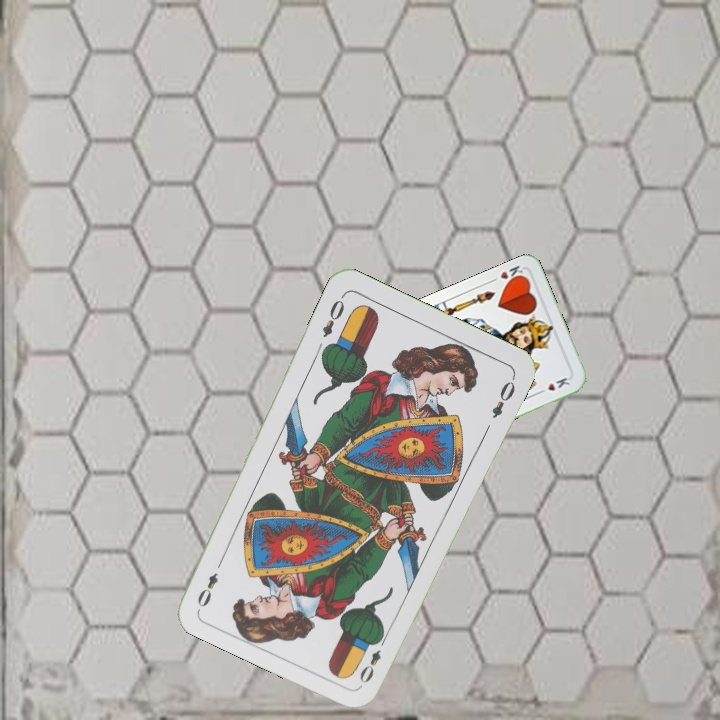EO: (355, 631, 390, 686), (318, 291, 347, 340)
HK: (486, 261, 528, 287)
